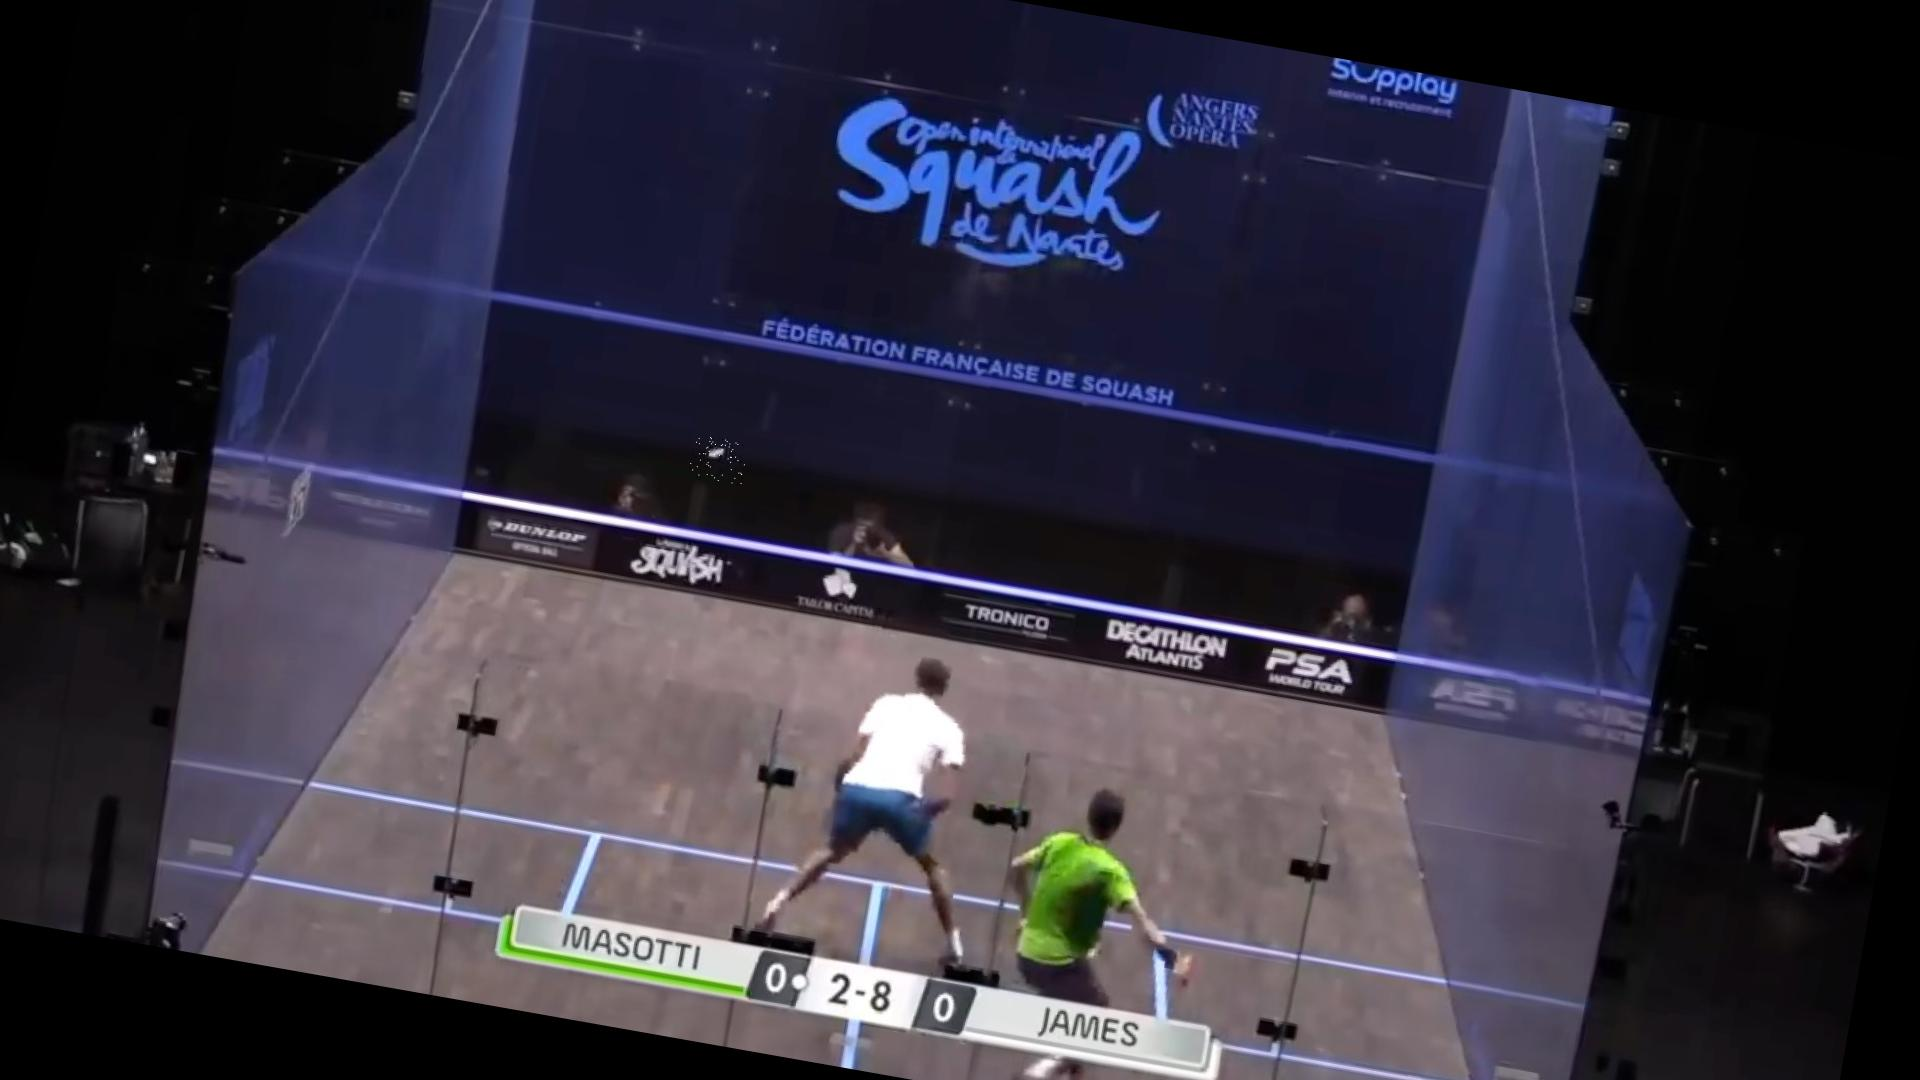Squash-Ball: (688, 434, 749, 485)
